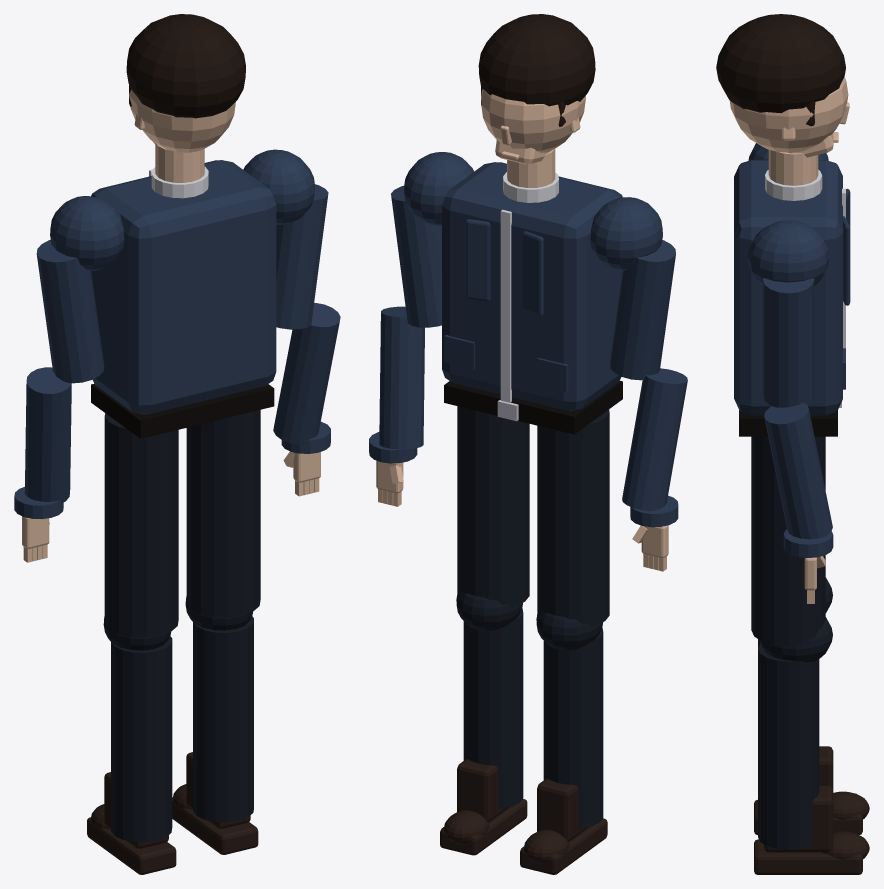
Rendered from Customer_Male.obj.
3 renders of one model, left to right at view 1: azimuth 30°, elevation 25°; view 2: azimuth 150°, elevation 25°; view 3: azimuth 270°, elevation 25°, orthographic. The views are drawn at different scales.
Parts seen in each view (by area): view 1: Male_CoatTorso, Male_Thigh_L, Male_Thigh_R, Male_Calf_L, Male_Calf_R, Male_HairTop, Male_UpperArm_L, Male_ForeArm_R, Male_ForeArm_L, Male_UpperArm_R, Male_Shoulder_L, Male_Belt (+12 smaller); view 2: Male_CoatTorso, Male_Thigh_L, Male_Thigh_R, Male_Calf_L, Male_Calf_R, Male_HairTop, Male_UpperArm_L, Male_ForeArm_L, Male_ForeArm_R, Male_UpperArm_R, Male_Shoulder_L, Male_Cranium (+22 smaller); view 3: Male_CoatTorso, Male_Calf_R, Male_HairTop, Male_Thigh_R, Male_UpperArm_R, Male_ForeArm_R, Male_Shoulder_R, Male_Cranium, Male_BootSole_R, Male_BootUpper_R, Male_Neck, Male_Knee_R (+11 smaller).
Part boxes in pixels (x1=…): Male_CoatTorso: x1=91, y1=160, x2=276, y2=414; Male_Thigh_L: x1=104, y1=413, x2=178, y2=637; Male_Thigh_R: x1=186, y1=410, x2=260, y2=617; Male_Calf_L: x1=111, y1=636, x2=172, y2=842; Male_Calf_R: x1=193, y1=616, x2=253, y2=822; Male_HairTop: x1=126, y1=14, x2=245, y2=118; Male_UpperArm_L: x1=36, y1=240, x2=104, y2=383; Male_ForeArm_R: x1=273, y1=303, x2=340, y2=444; Male_ForeArm_L: x1=24, y1=367, x2=71, y2=503; Male_UpperArm_R: x1=276, y1=184, x2=328, y2=329; Male_Shoulder_L: x1=50, y1=196, x2=124, y2=271; Male_Belt: x1=91, y1=383, x2=274, y2=438; Male_CoatTorso: x1=442, y1=162, x2=622, y2=410; Male_Thigh_L: x1=537, y1=409, x2=609, y2=626; Male_Thigh_R: x1=457, y1=406, x2=529, y2=607; Male_Calf_L: x1=543, y1=628, x2=603, y2=828; Male_Calf_R: x1=463, y1=608, x2=523, y2=808; Male_HairTop: x1=478, y1=14, x2=595, y2=106; Male_UpperArm_L: x1=610, y1=240, x2=675, y2=380; Male_ForeArm_L: x1=622, y1=368, x2=687, y2=511; Male_ForeArm_R: x1=379, y1=306, x2=424, y2=449; Male_UpperArm_R: x1=391, y1=185, x2=441, y2=327; Male_Shoulder_L: x1=590, y1=197, x2=662, y2=270; Male_Cranium: x1=481, y1=89, x2=585, y2=152; Male_CoatTorso: x1=734, y1=160, x2=842, y2=415; Male_Calf_R: x1=758, y1=643, x2=819, y2=849; Male_HairTop: x1=716, y1=14, x2=845, y2=112; Male_Thigh_R: x1=751, y1=436, x2=825, y2=646; Male_UpperArm_R: x1=763, y1=278, x2=814, y2=407; Male_ForeArm_R: x1=764, y1=402, x2=832, y2=539; Male_Shoulder_R: x1=747, y1=220, x2=829, y2=285; Male_Cranium: x1=729, y1=77, x2=848, y2=152; Male_BootSole_R: x1=754, y1=839, x2=862, y2=874; Male_BootUpper_R: x1=764, y1=786, x2=833, y2=852; Male_Neck: x1=768, y1=150, x2=818, y2=185; Male_Knee_R: x1=760, y1=617, x2=832, y2=662.
Bounding box in the file's own units: 0.72 × 1.84 × 0.3102.
